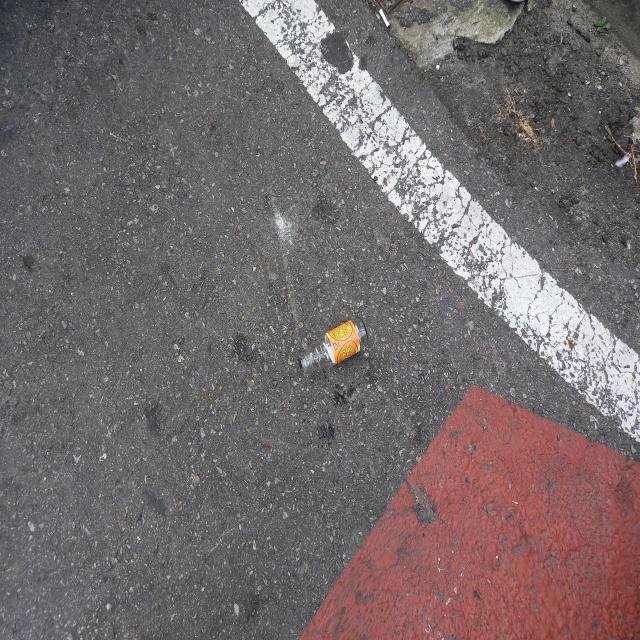glass: (299, 317, 368, 373)
